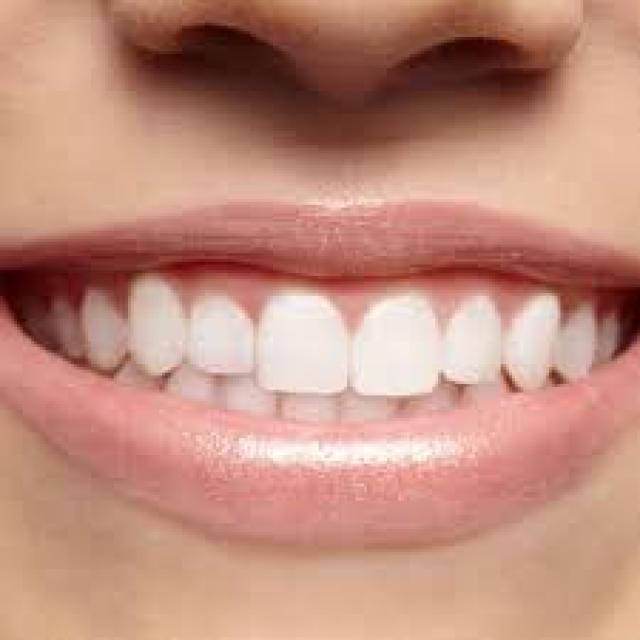tooth: (356, 308, 438, 396), (262, 302, 344, 389), (193, 304, 250, 373), (446, 307, 501, 378), (137, 288, 179, 376), (509, 307, 552, 384), (91, 298, 128, 369), (566, 310, 595, 370), (59, 299, 82, 361), (20, 302, 51, 342), (603, 304, 623, 356)
